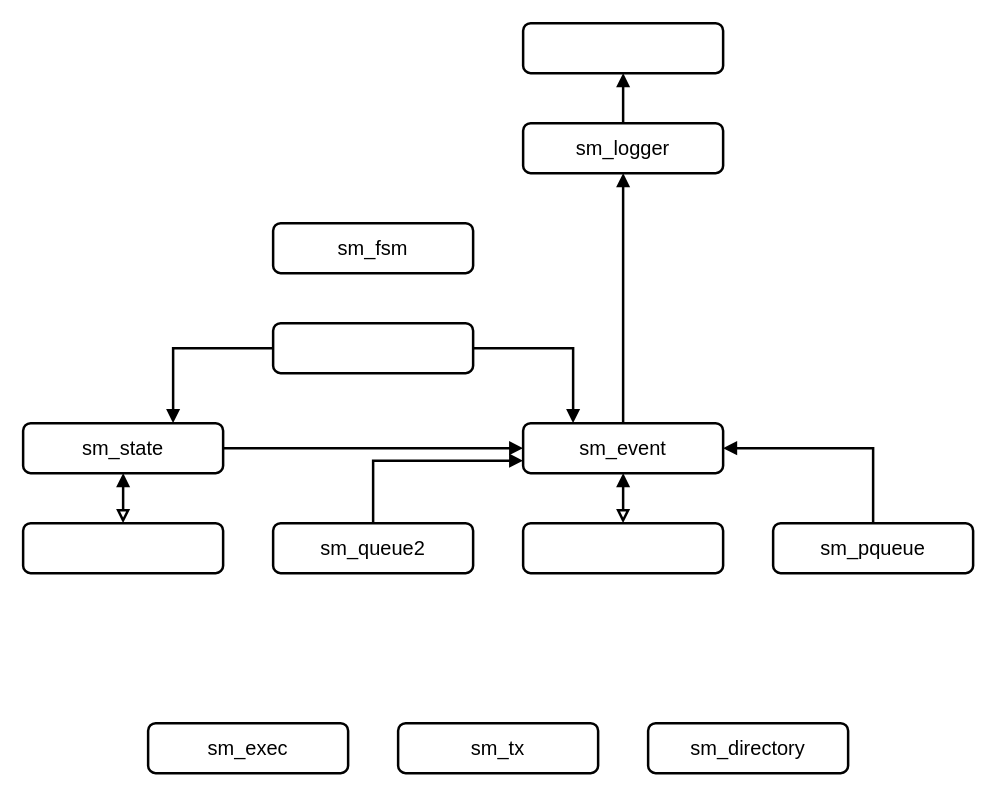
The diagram is 995 pixels wide and 795 high, and some of its shapes have lost their labels. The shapes that lost their labels are listed below. From the top down, each one's centre as x and y in pixels, then its label:
the point at 622,47: sm_sys
the point at 372,347: sm_app
the point at 122,547: sm_array
the point at 622,547: sm_queue
